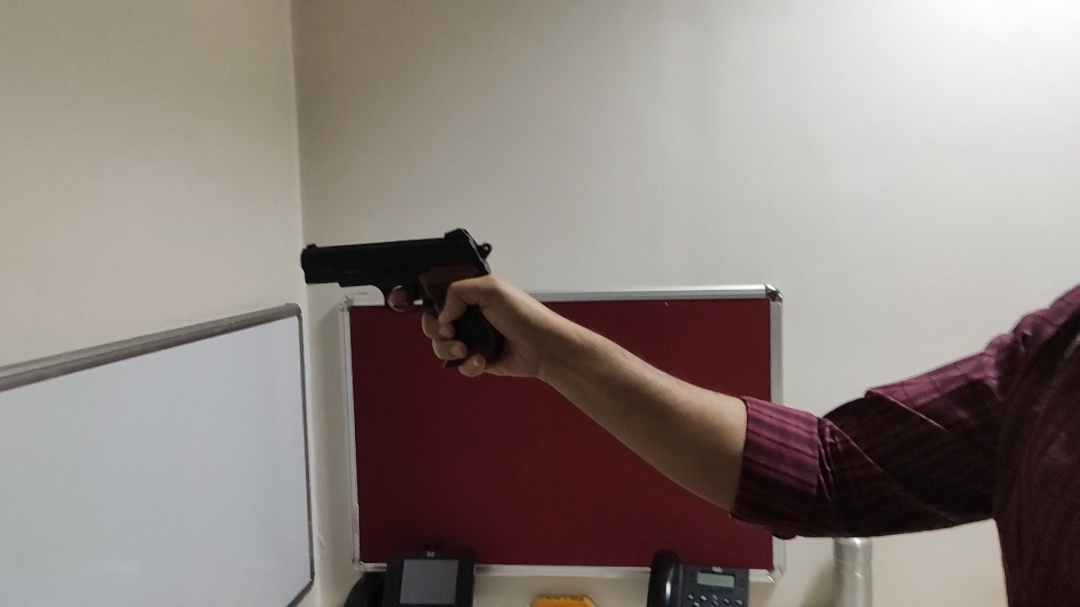gun: (302, 227, 513, 371)
